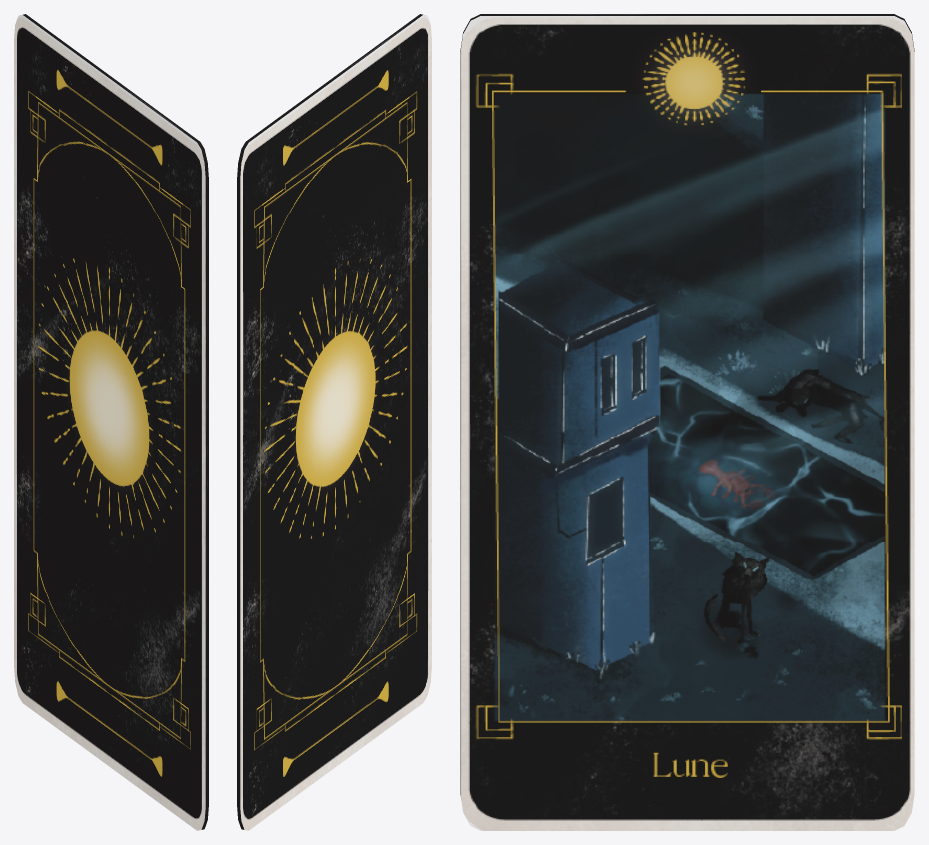
File: la_lune.gltf
3 views of the same model, side by side, from view 1: azimuth 30°, elevation 25°; view 2: azimuth 150°, elevation 25°; view 3: azimuth 270°, elevation 25° (orthographic). The views are drawn at different scales.
Parts seen in each view (by area): view 1: 2 Batons; view 2: 2 Batons; view 3: 2 Batons.
Part boxes in pixels (x1,y1,x2,y2): 2 Batons: [14, 14, 208, 830]; 2 Batons: [237, 14, 431, 830]; 2 Batons: [460, 14, 914, 830].
Bounding box in the file's own units: 0.0191 × 3.96 × 2.
Materials: 1 (1 with a texture image).
